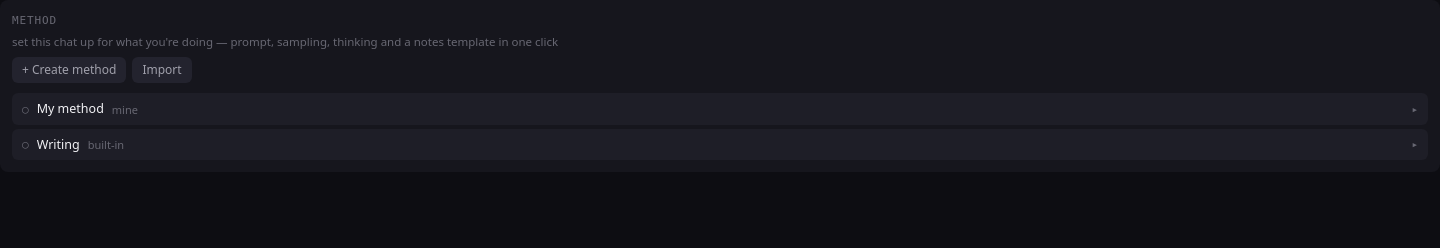
Test: deleting a user method › offers Delete on a user method and not on a built-in
Click the button "○ My method mine ▸": (70, 109) [12, 94, 1428, 125]
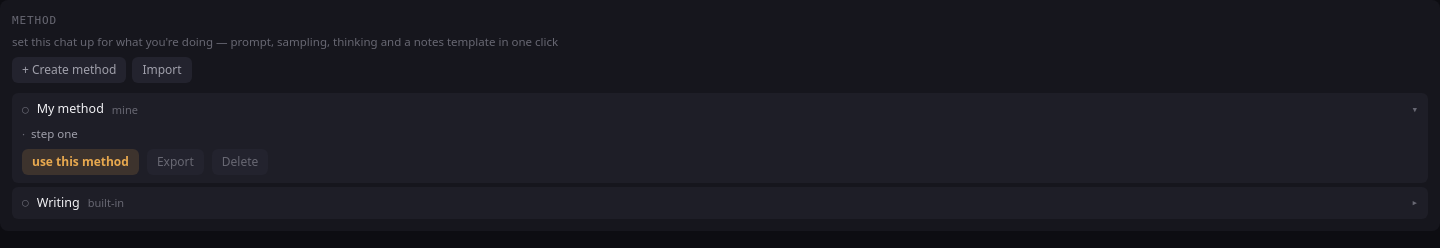
Expected: the button "Delete" is shown, [212, 149, 268, 175]
Click the button "○ Writing built-in ▸": (58, 203) [12, 187, 1428, 219]
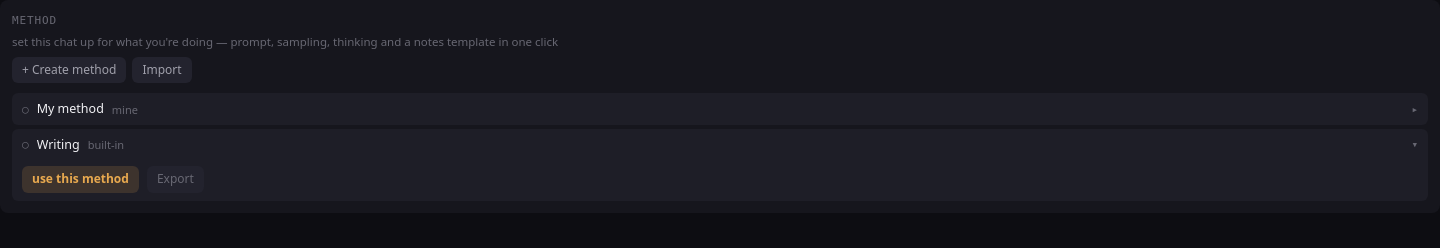
Expected: the button "Delete" no longer shows "Delete"
